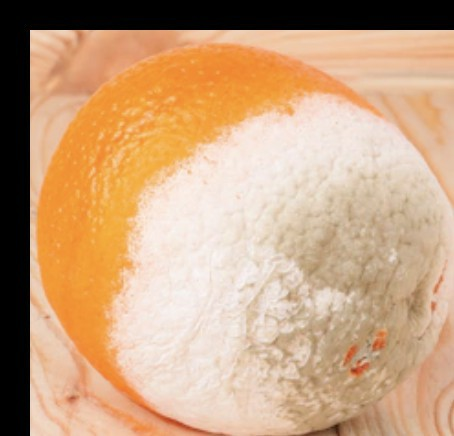rotten_orange: (35, 46, 454, 436)
